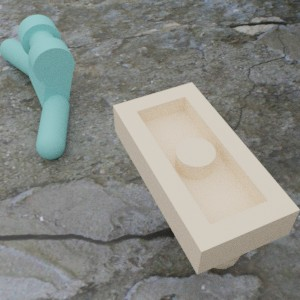lego: (113, 82, 300, 274), (0, 14, 74, 159)
